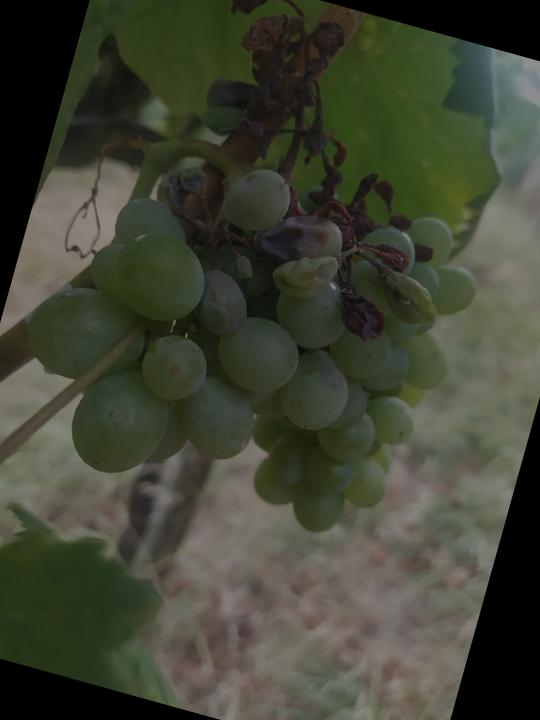grape: (0, 0, 540, 563)
